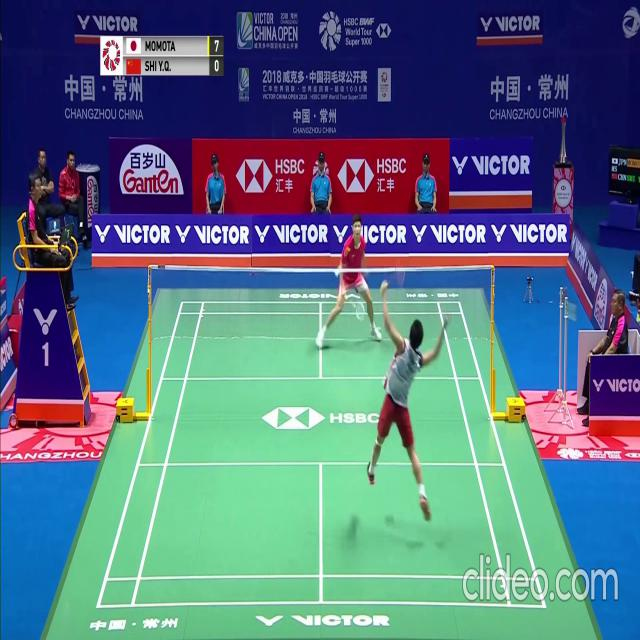Shuttlecock: (334, 269, 339, 277)
